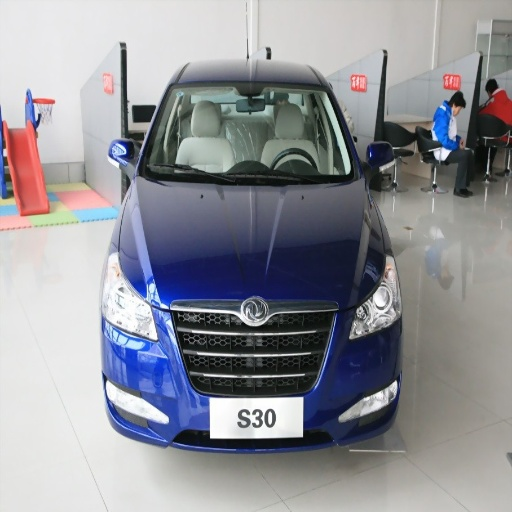front_bumper: (103, 296, 400, 453)
front_right_light: (103, 248, 156, 339)
hood: (122, 177, 379, 309)
